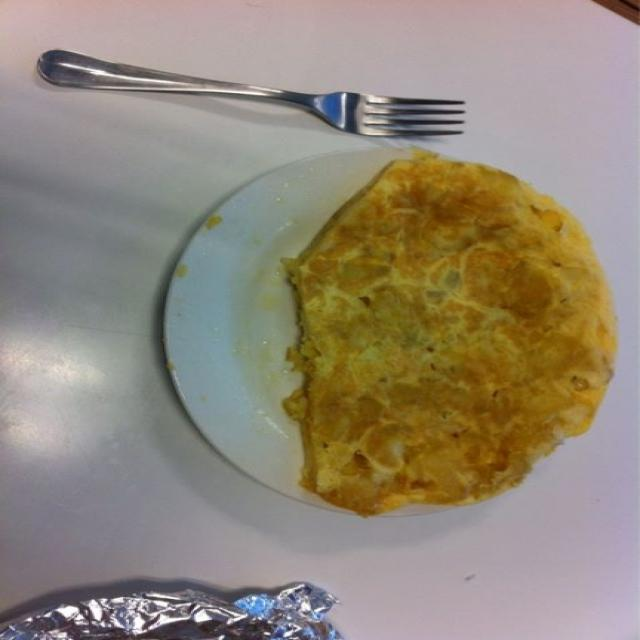面包点心: (151, 127, 630, 523)
